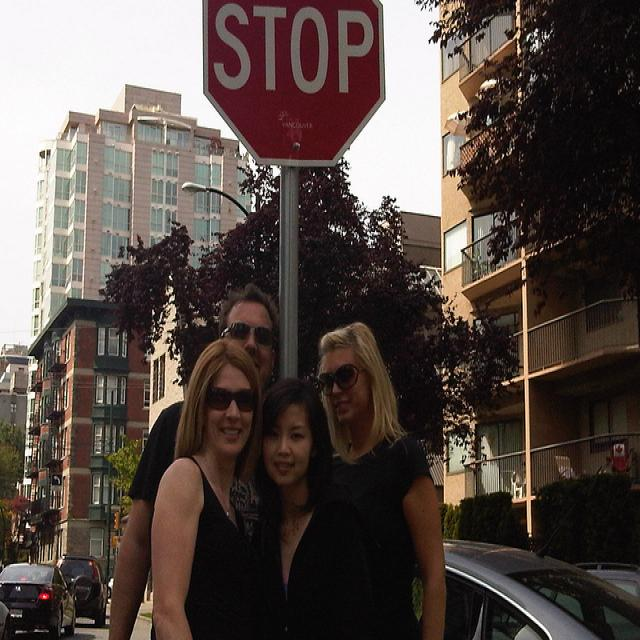Vehicle: (440, 544, 639, 633), (1, 561, 75, 640), (56, 556, 108, 629), (107, 578, 115, 597)
